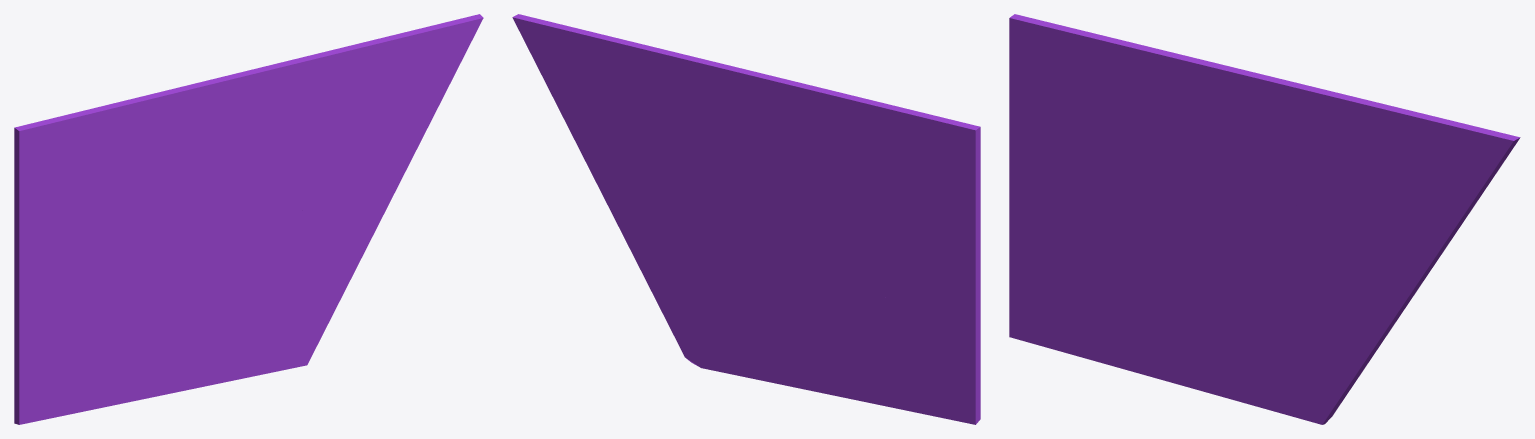
The model's file is Window_36_0_chunks.fbx.
3 views of the same model, side by side, from view 1: azimuth 30°, elevation 25°; view 2: azimuth 150°, elevation 25°; view 3: azimuth 330°, elevation 25° (orthographic). The views are drawn at different scales.
Visible parts, largest first — view 1: Window_36_0_9, Window_36_0_0, Window_36_0_8, Window_36_0_1, Window_36_0_21, Window_36_0_7, Window_36_0_31, Window_36_0_28, Window_36_0_22, Window_36_0_6, Window_36_0_23, Window_36_0_32 (+17 smaller); view 2: Window_36_0_9, Window_36_0_0, Window_36_0_1, Window_36_0_21, Window_36_0_8, Window_36_0_3, Window_36_0_6, Window_36_0_18, Window_36_0_22, Window_36_0_31, Window_36_0_28, Window_36_0_27 (+14 smaller); view 3: Window_36_0_9, Window_36_0_0, Window_36_0_8, Window_36_0_21, Window_36_0_1, Window_36_0_7, Window_36_0_31, Window_36_0_28, Window_36_0_6, Window_36_0_22, Window_36_0_23, Window_36_0_32 (+17 smaller).
Boxes of the visible parts, x1,y1,x2,y2 form: Window_36_0_9: (14, 96, 160, 286); Window_36_0_0: (14, 307, 162, 424); Window_36_0_8: (271, 151, 415, 288); Window_36_0_1: (152, 263, 252, 395); Window_36_0_21: (374, 14, 483, 142); Window_36_0_7: (224, 241, 300, 375); Window_36_0_31: (216, 58, 313, 147); Window_36_0_28: (196, 121, 288, 216); Window_36_0_22: (298, 34, 401, 104); Window_36_0_6: (252, 283, 348, 376); Window_36_0_23: (80, 201, 175, 279); Window_36_0_32: (145, 75, 236, 130); Window_36_0_9: (836, 95, 980, 281); Window_36_0_0: (836, 304, 980, 424); Window_36_0_1: (737, 258, 847, 395); Window_36_0_21: (512, 14, 630, 138); Window_36_0_8: (592, 174, 710, 284); Window_36_0_3: (569, 129, 689, 225); Window_36_0_6: (645, 279, 741, 375); Window_36_0_18: (657, 64, 735, 180); Window_36_0_22: (596, 34, 694, 103); Window_36_0_31: (688, 55, 768, 143); Window_36_0_28: (720, 126, 799, 214); Window_36_0_27: (784, 107, 844, 204); Window_36_0_9: (1009, 14, 1162, 211); Window_36_0_0: (1009, 211, 1164, 380); Window_36_0_8: (1283, 249, 1440, 357); Window_36_0_21: (1395, 115, 1520, 236); Window_36_0_1: (1154, 268, 1262, 407); Window_36_0_7: (1231, 257, 1315, 407); Window_36_0_31: (1223, 73, 1328, 149); Window_36_0_28: (1202, 150, 1301, 233); Window_36_0_6: (1263, 338, 1374, 424); Window_36_0_22: (1319, 89, 1428, 162); Window_36_0_23: (1075, 167, 1178, 246); Window_36_0_32: (1152, 48, 1249, 108).
Size of the model in its own units: 1476 by 927 by 27.2.
